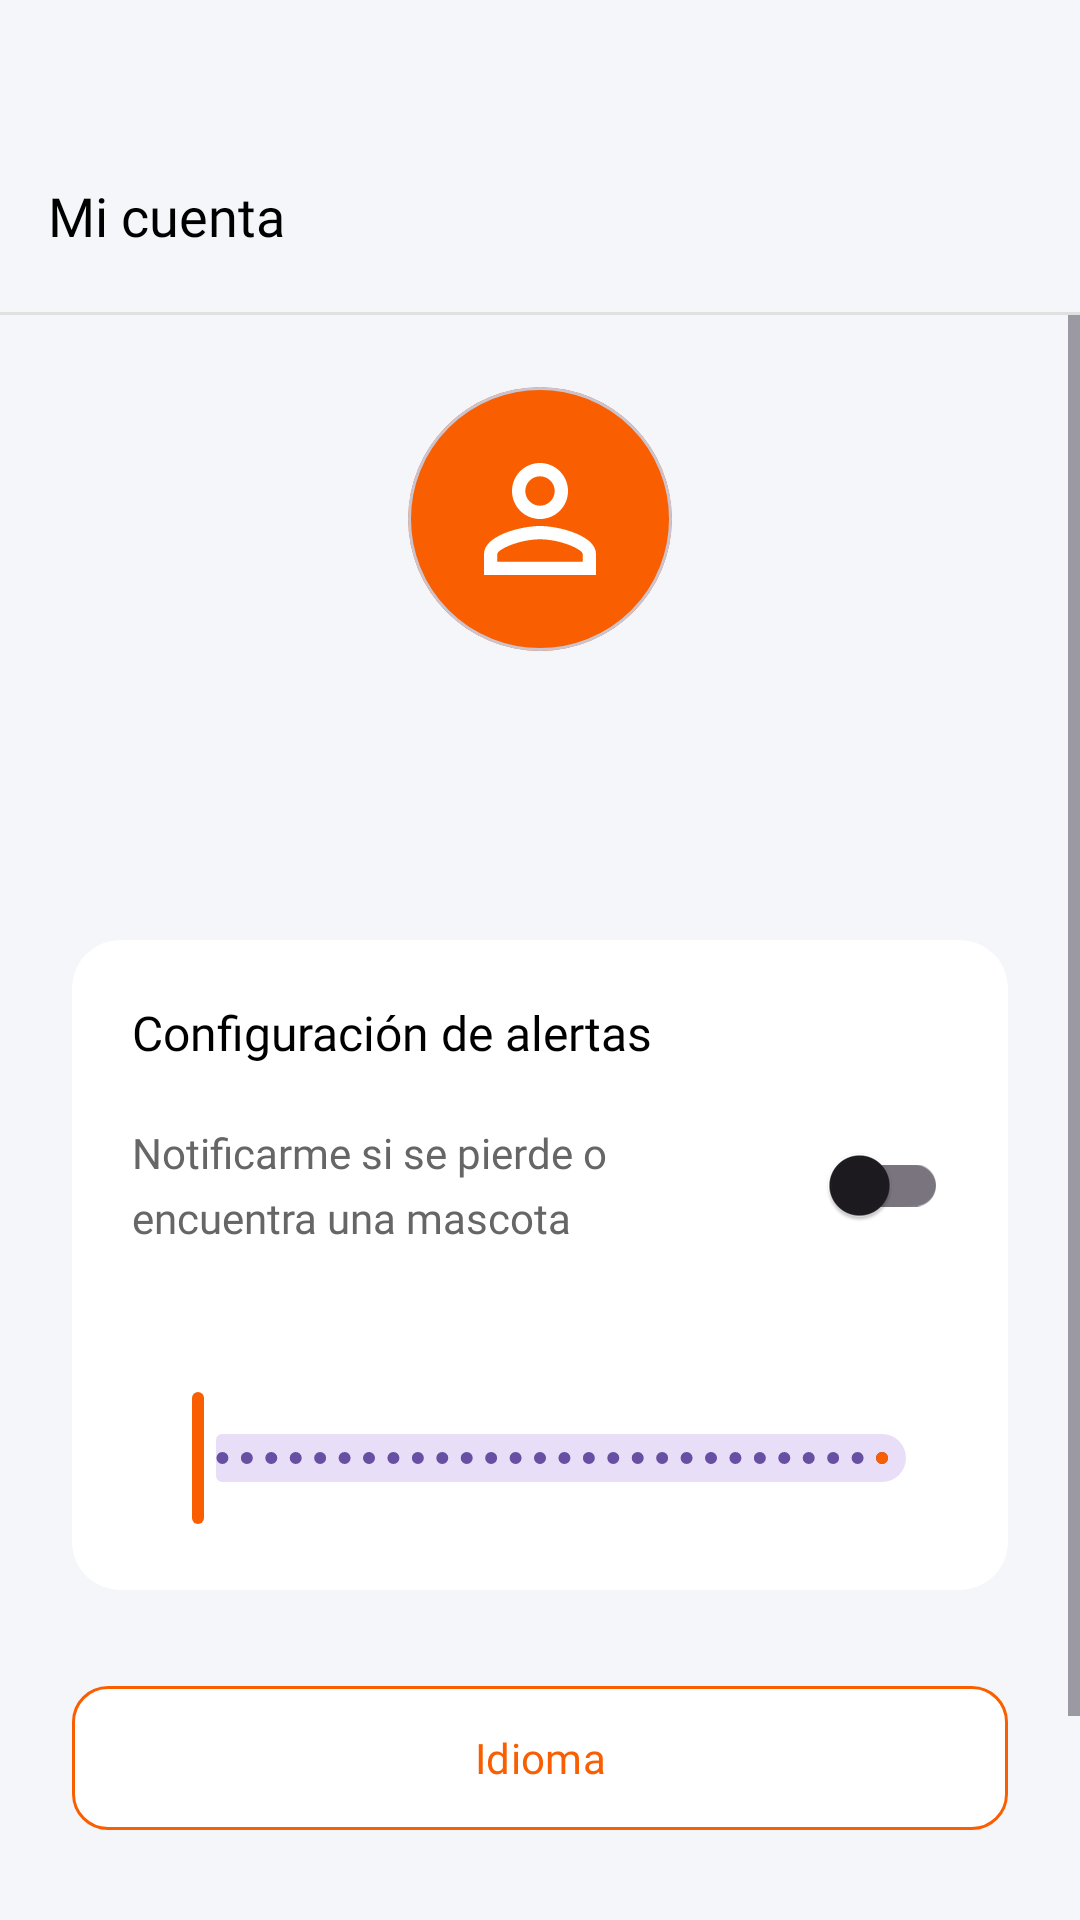

Where icons sit on this 1080 × 1920 app screen, as BBox(x1, y1, x2, y2):
account: BBox(408, 387, 672, 651)
